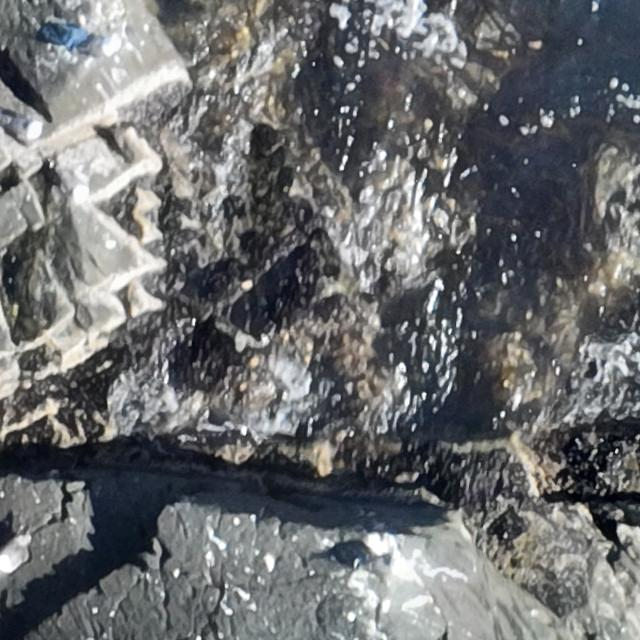umineko: (339, 531, 396, 570), (66, 31, 122, 60), (11, 106, 49, 142), (1, 538, 34, 572)
